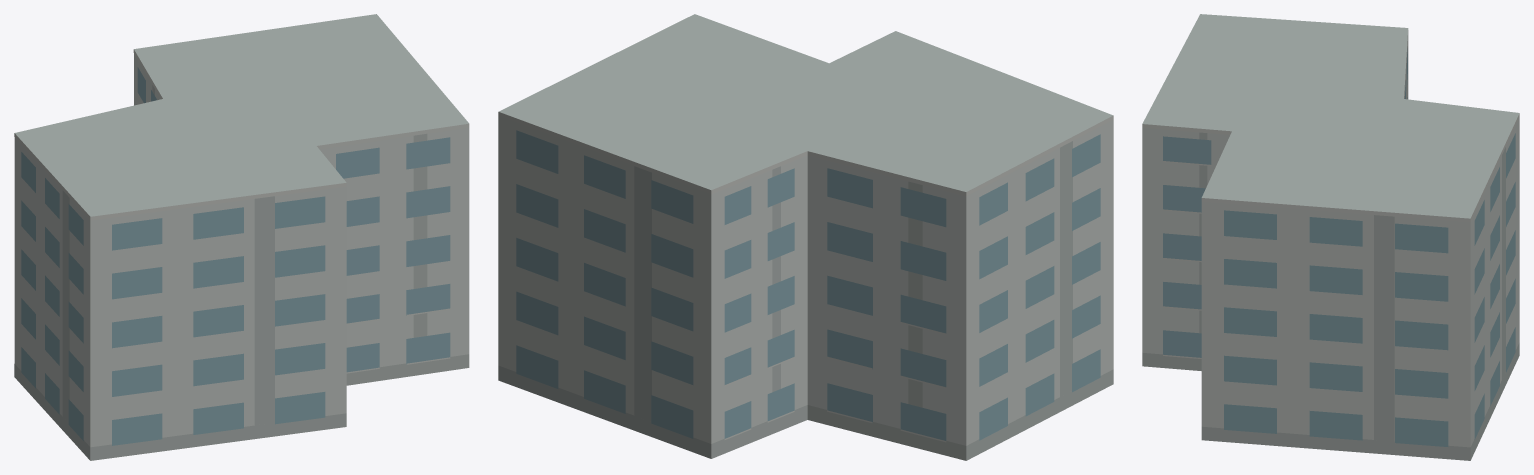
The model's file is residential-5ff6ef92-5d3e-4382-a849-084669c8de87.glb.
3 views of the same model, side by side, from view 1: azimuth 30°, elevation 25°; view 2: azimuth 150°, elevation 25°; view 3: azimuth 270°, elevation 25° (orthographic). The views are drawn at different scales.
Parts seen in each view (by area): view 1: residential-5ff6ef92-5d3e-4382-a849-084669c8de87.tmp; view 2: residential-5ff6ef92-5d3e-4382-a849-084669c8de87.tmp; view 3: residential-5ff6ef92-5d3e-4382-a849-084669c8de87.tmp.
Part boxes in pixels (x1,y1,x2,y2): residential-5ff6ef92-5d3e-4382-a849-084669c8de87.tmp: [14, 14, 469, 460]; residential-5ff6ef92-5d3e-4382-a849-084669c8de87.tmp: [498, 14, 1113, 460]; residential-5ff6ef92-5d3e-4382-a849-084669c8de87.tmp: [1142, 14, 1519, 460].
Bounding box in the file's own units: 27.63 × 15.25 × 21.54.
